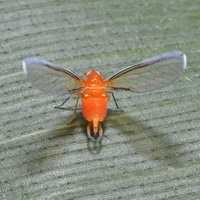insect: (22, 51, 186, 152)
